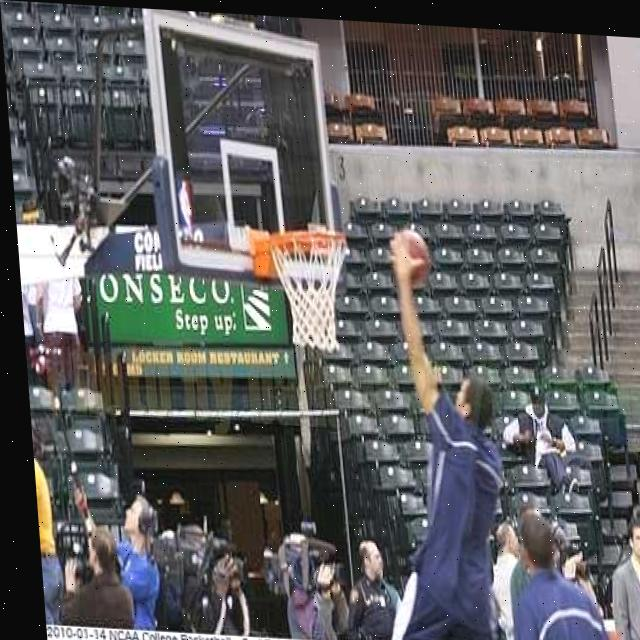basketball: (404, 228, 432, 289)
hoop: (264, 222, 357, 359)
